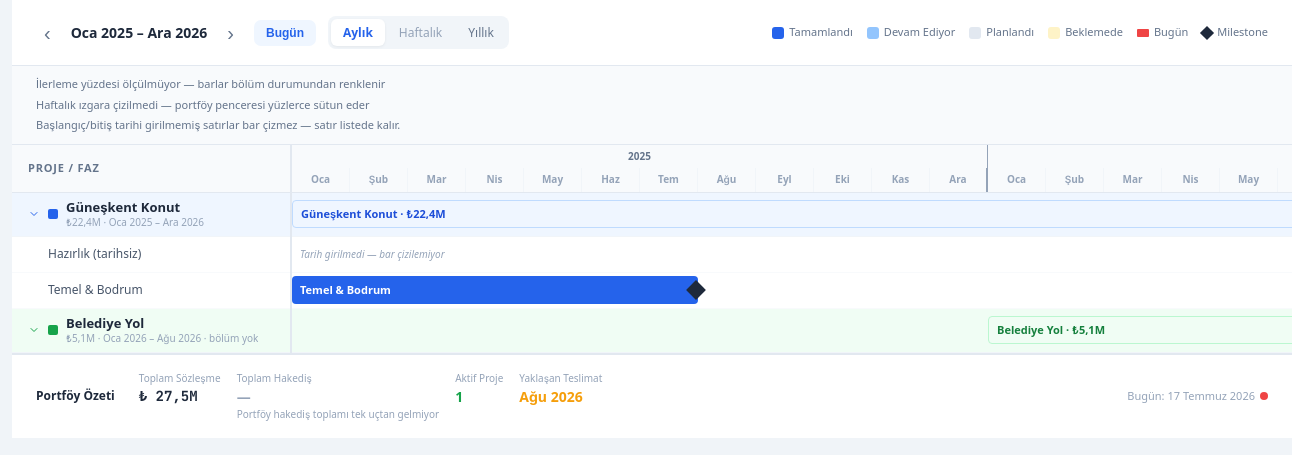
Scenario: ProjectTimelineView — ızgara (T3) › proje satırı KATLANIR — bölümler gizlenir, proje satırı kalır
Click the button "Güneşkent Konut ₺22,4M · Oca 2025 – Ara 2026" at (151, 214), box [12,192,290,236]
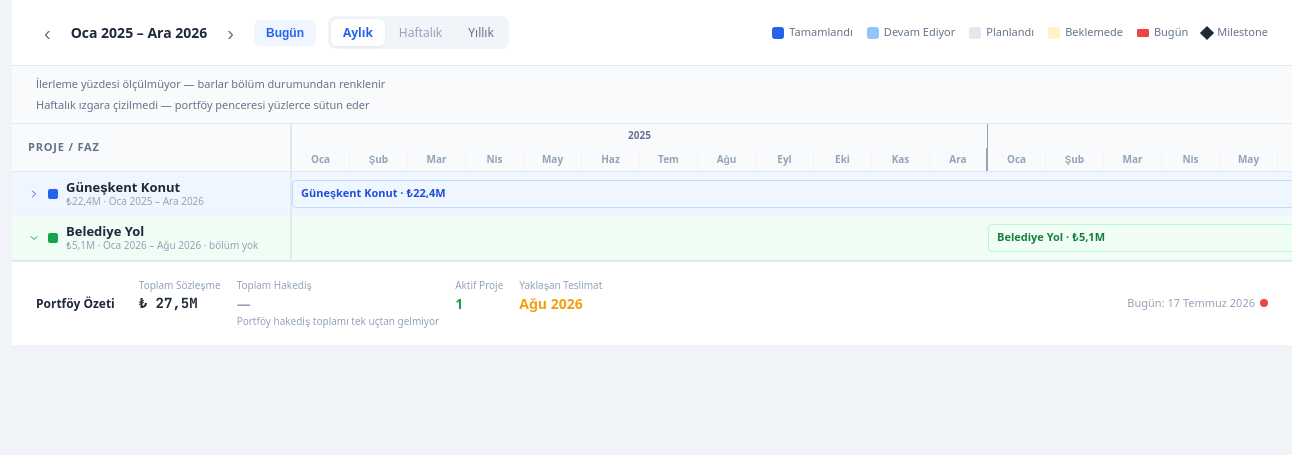
Expected: the text "Güneşkent Konut" is shown, [66,178,180,196]
Result: the text "Temel & Bodrum" is gone
